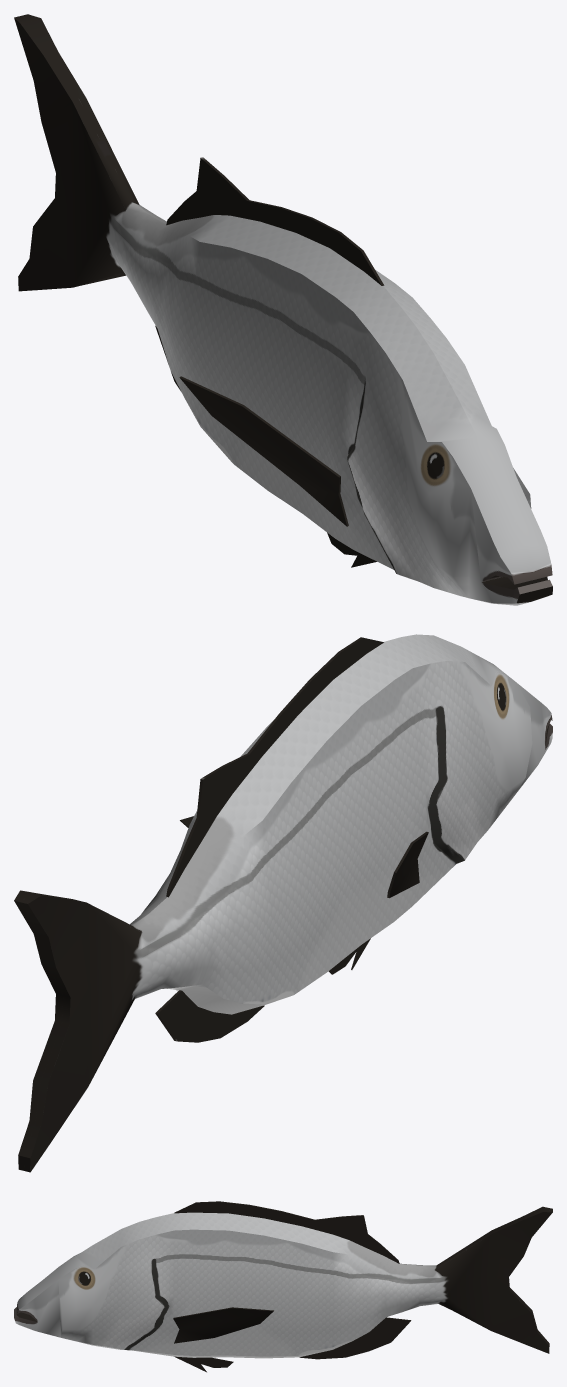
The model's file is dentex_dentex.fbx.
3 renders of one model, top to bottom at view 1: azimuth 30°, elevation 25°; view 2: azimuth 150°, elevation 25°; view 3: azimuth 270°, elevation 25°, orthographic. The views are drawn at different scales.
Visible parts, largest first — view 1: Dentón; view 2: Dentón; view 3: Dentón.
Part boxes in pixels (left/top/right/bottom): Dentón: left=14, top=14, right=552, bottom=605; Dentón: left=14, top=634, right=552, bottom=1172; Dentón: left=14, top=1201, right=552, bottom=1372.
Bounding box in the file's own units: 110 × 158 × 452.
Materials: 1 (1 with a texture image).
